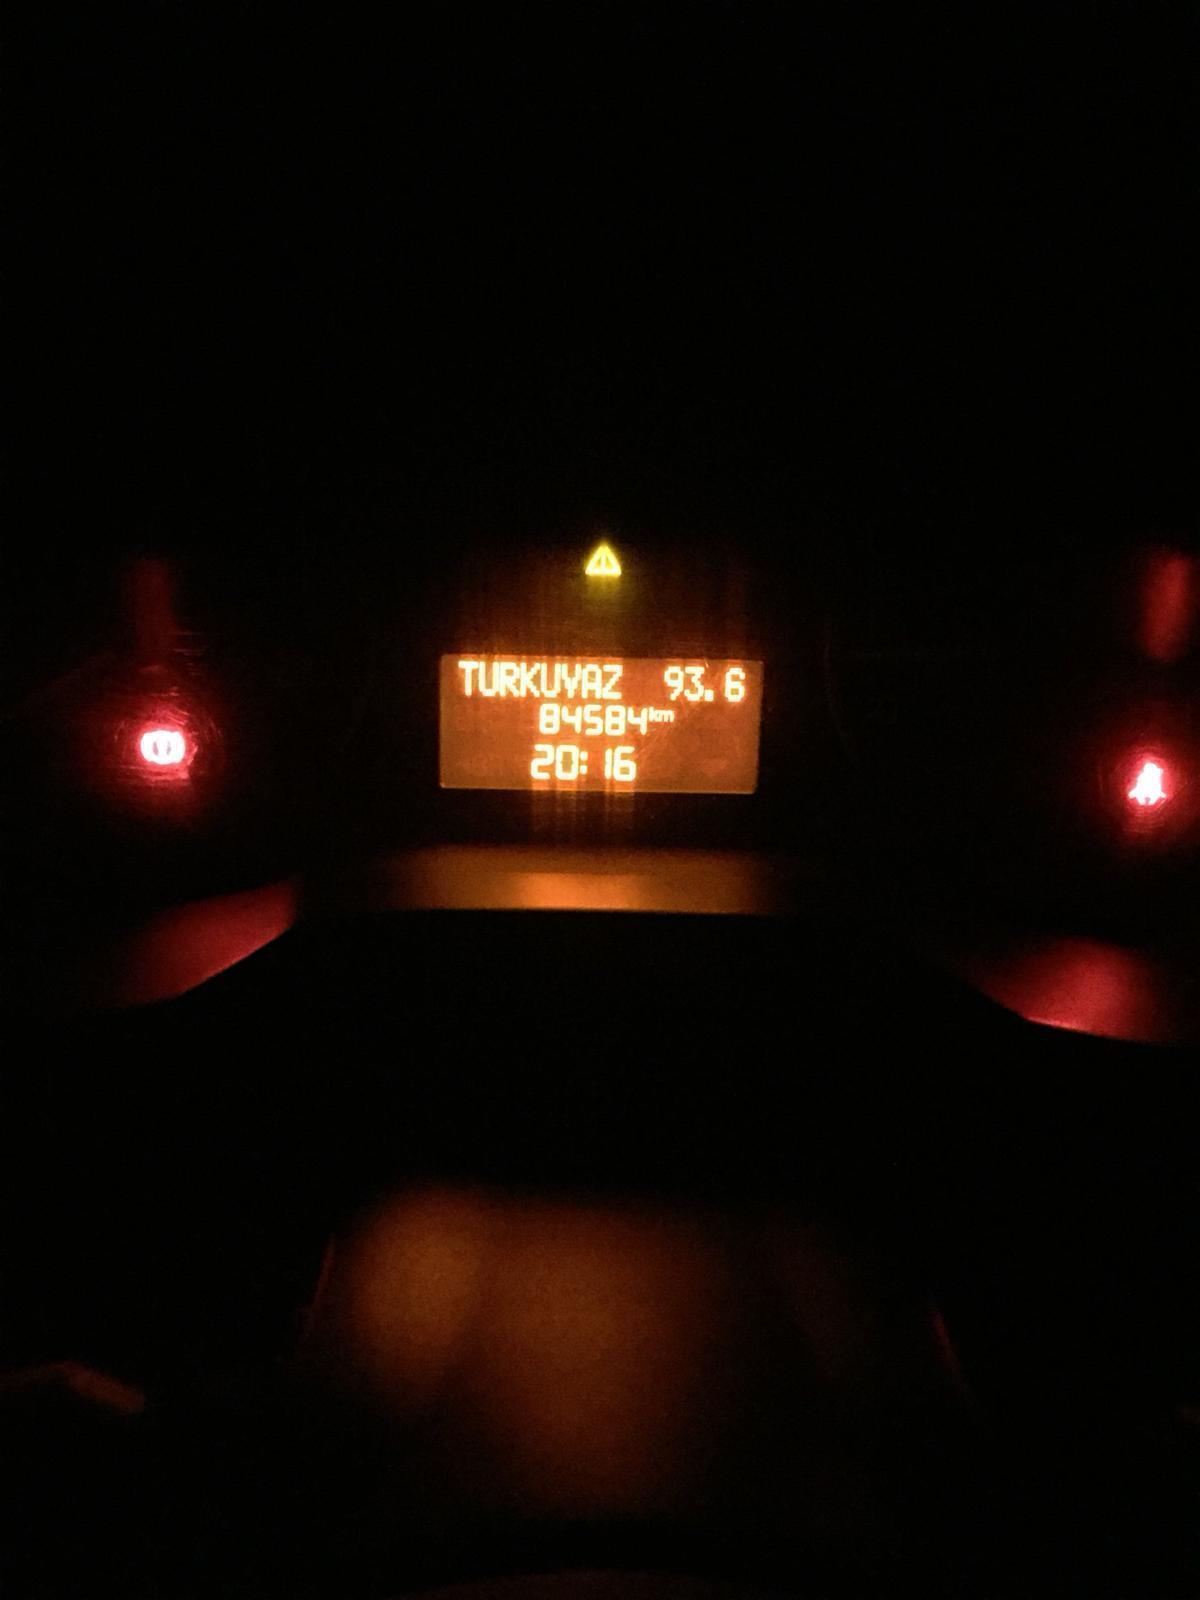,: (705, 687, 717, 700)
0: (553, 743, 579, 781)
1: (603, 746, 613, 780)
2: (531, 741, 555, 780)
3: (683, 664, 707, 702)
4: (561, 703, 582, 734), (626, 706, 647, 736)
5: (584, 704, 604, 734)
6: (724, 664, 746, 703), (615, 745, 637, 780)
8: (605, 702, 626, 737), (537, 702, 560, 734)
9: (663, 661, 684, 703)
X: (603, 660, 626, 699), (498, 659, 519, 700), (539, 658, 561, 698), (455, 658, 475, 700), (478, 658, 498, 699), (561, 660, 581, 699), (584, 663, 603, 700), (521, 660, 539, 698), (579, 747, 590, 777), (657, 708, 676, 724), (649, 706, 657, 722)
odometer: (434, 645, 766, 797)
